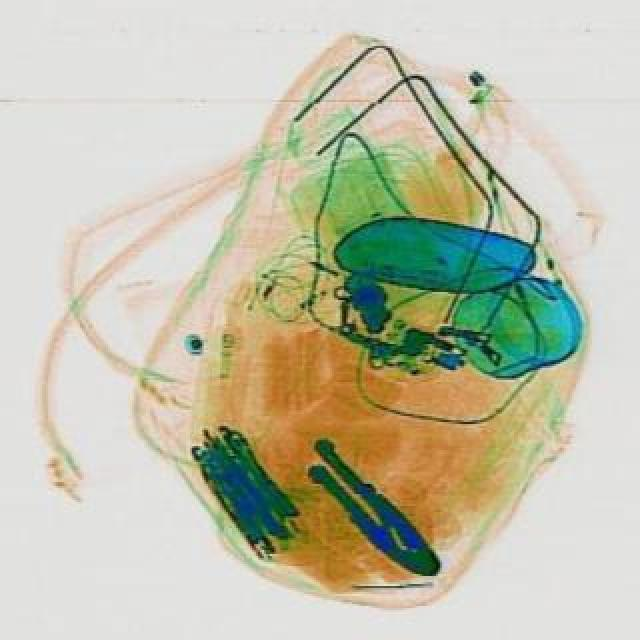wrench: (288, 434, 450, 586)
